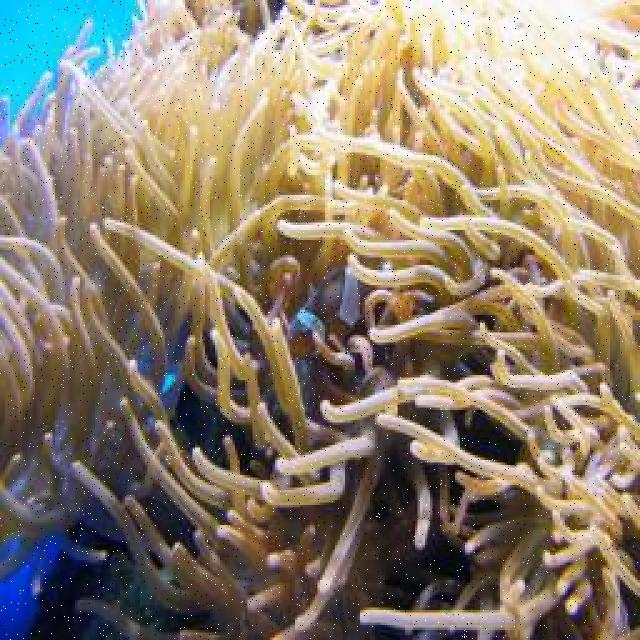fish: (286, 265, 384, 358)
reefs: (0, 1, 638, 638), (5, 82, 638, 637)
